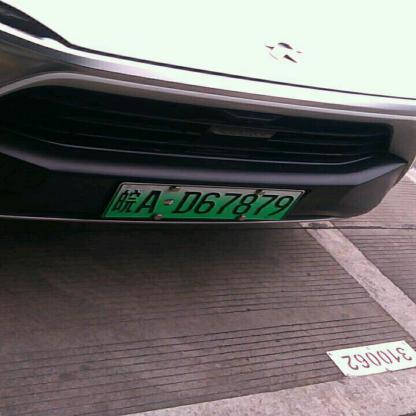lp: (104, 182, 302, 219)
